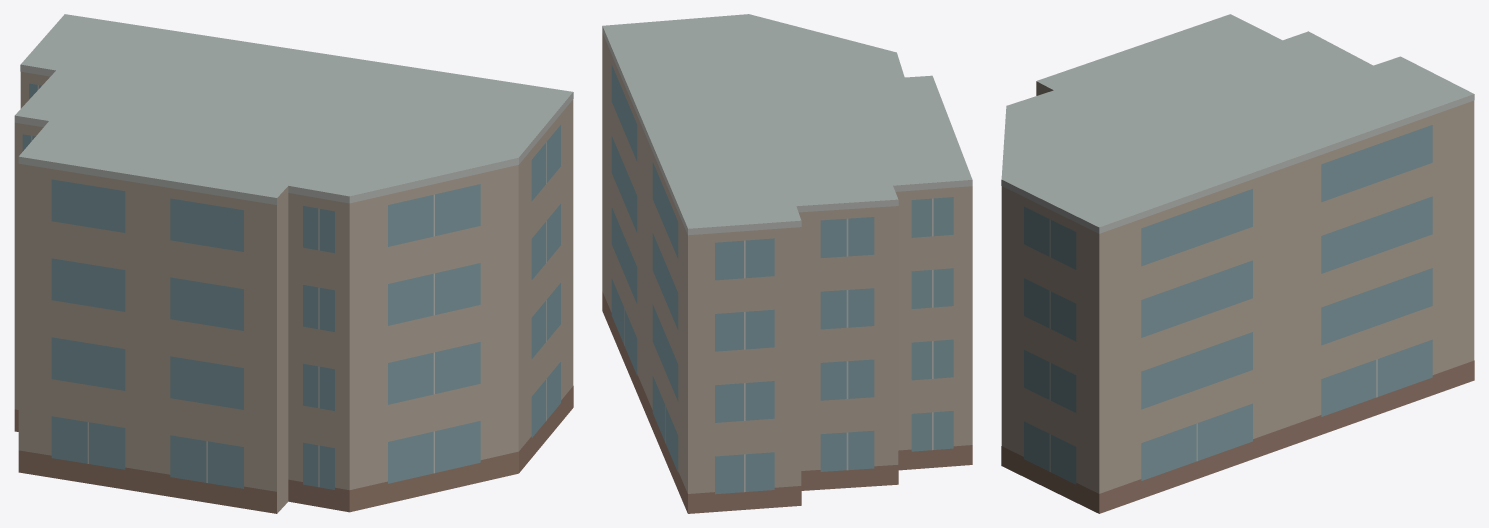
The model's file is survey-upis-32773249.glb.
The picture shows the model from 3 angles, left to right: view 1: azimuth 30°, elevation 25°; view 2: azimuth 150°, elevation 25°; view 3: azimuth 270°, elevation 25°; orthographic projection. The views are drawn at different scales.
Parts seen in each view (by area): view 1: survey-upis-32773249.tmp; view 2: survey-upis-32773249.tmp; view 3: survey-upis-32773249.tmp.
Part boxes in pixels (x1,y1,x2,y2): survey-upis-32773249.tmp: (14, 14, 573, 513); survey-upis-32773249.tmp: (602, 14, 972, 513); survey-upis-32773249.tmp: (1001, 14, 1474, 513).
Size of the model in its own units: 17.44 by 10.9 by 16.32.
